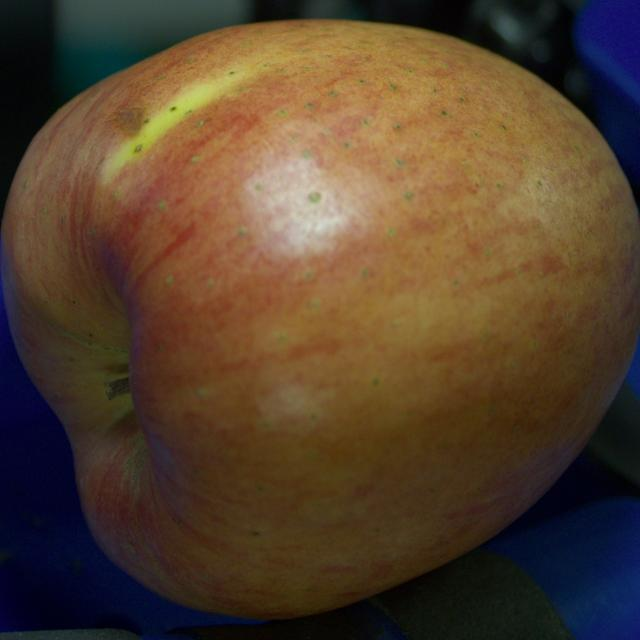apple: (0, 19, 639, 619)
bruise: (110, 108, 144, 136)
